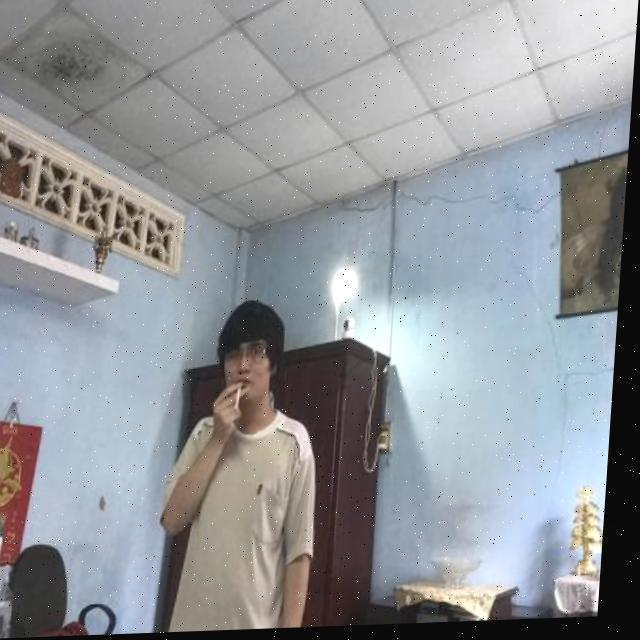cigarette: (238, 390, 249, 414)
